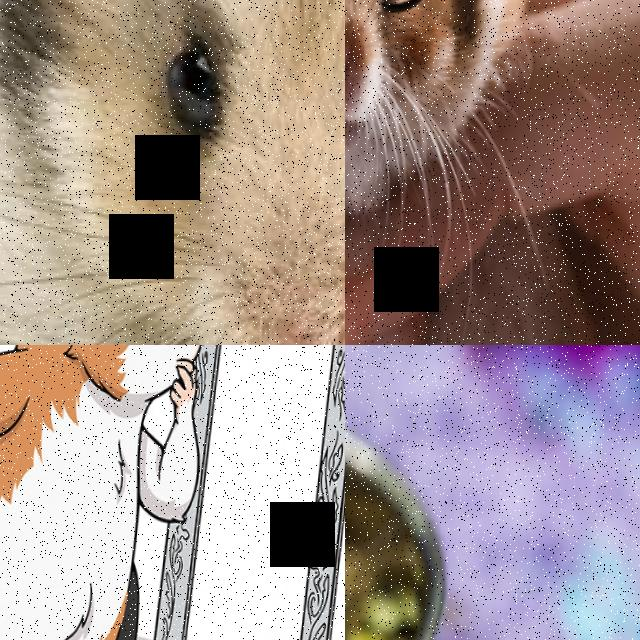hamster: (0, 0, 345, 345), (0, 345, 210, 640), (345, 0, 532, 215)
